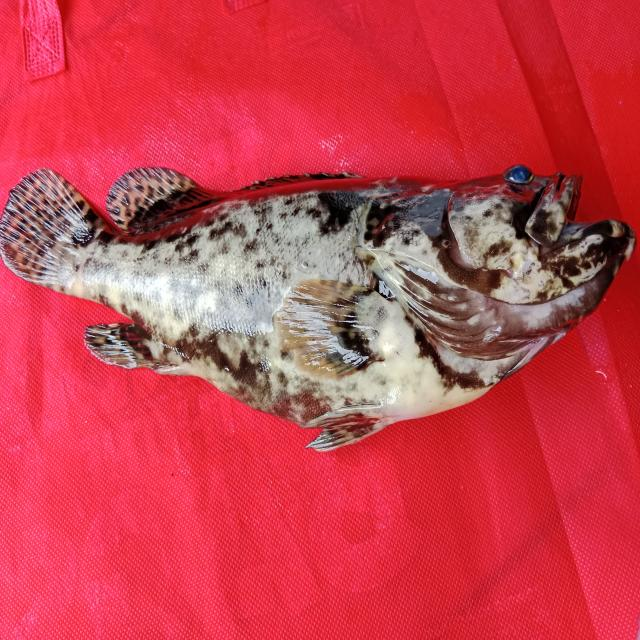ikan: (6, 138, 634, 461)
